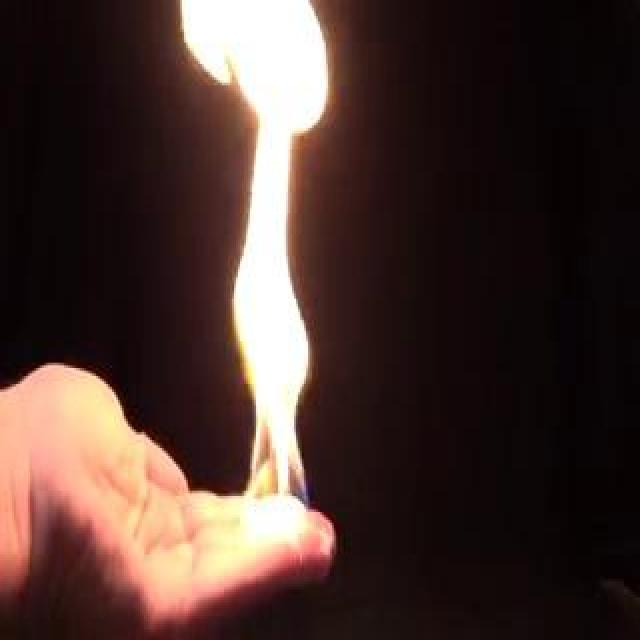Fire: (203, 2, 321, 530)
